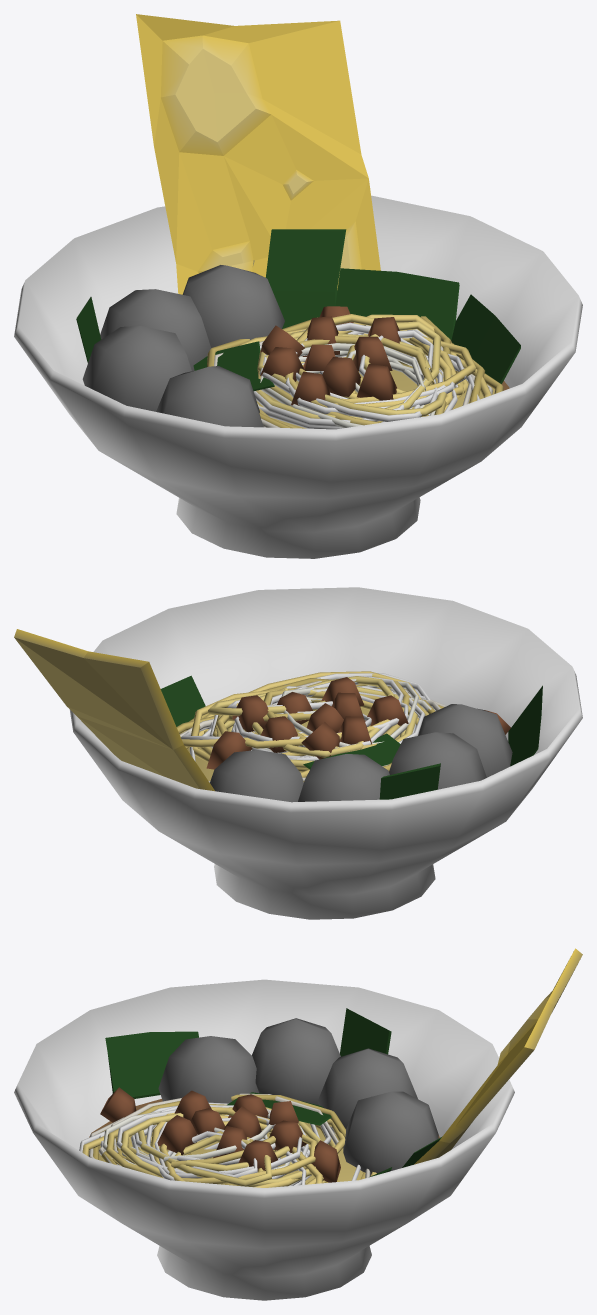
File: noodlesInvert.fbx
3 renders of one model, top to bottom at view 1: azimuth 30°, elevation 25°; view 2: azimuth 150°, elevation 25°; view 3: azimuth 270°, elevation 25°, orthographic. The views are drawn at different scales.
Parts seen in each view (by area): view 1: Noodles.001; view 2: Noodles.001; view 3: Noodles.001.
Boxes of the visible parts, <box> form: Noodles.001: <box>14,14,582,558</box>; Noodles.001: <box>14,587,582,919</box>; Noodles.001: <box>14,948,582,1300</box>.
Size of the model in its own units: 20.29 by 14.01 by 23.04.
